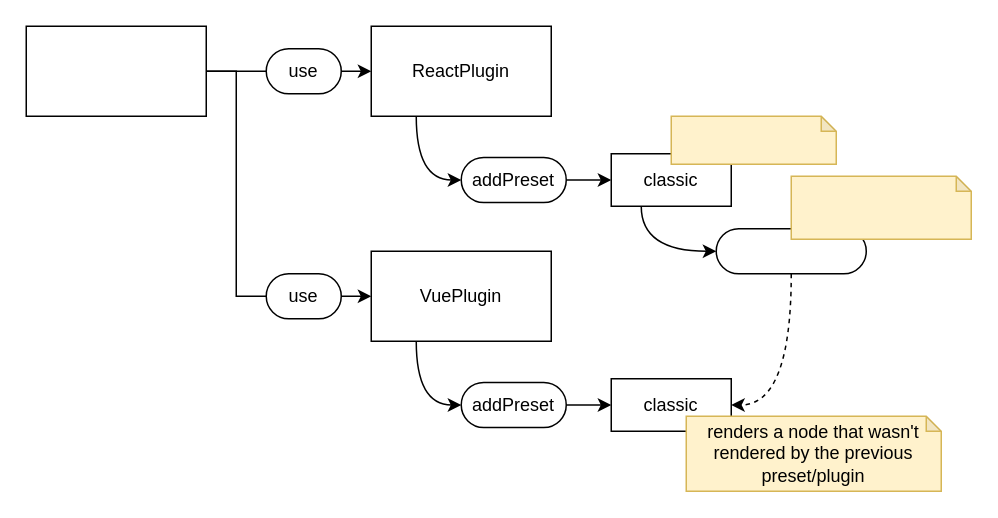
This 998x518 diagram has some shape labels left out. The centre of each missing label's shape, as x and y in pixels:
AreaPlugin: point (115, 70)
customization: point (790, 250)
except for a specific type of node: point (880, 207)
renders nodes, connections, etc.: point (753, 139)
